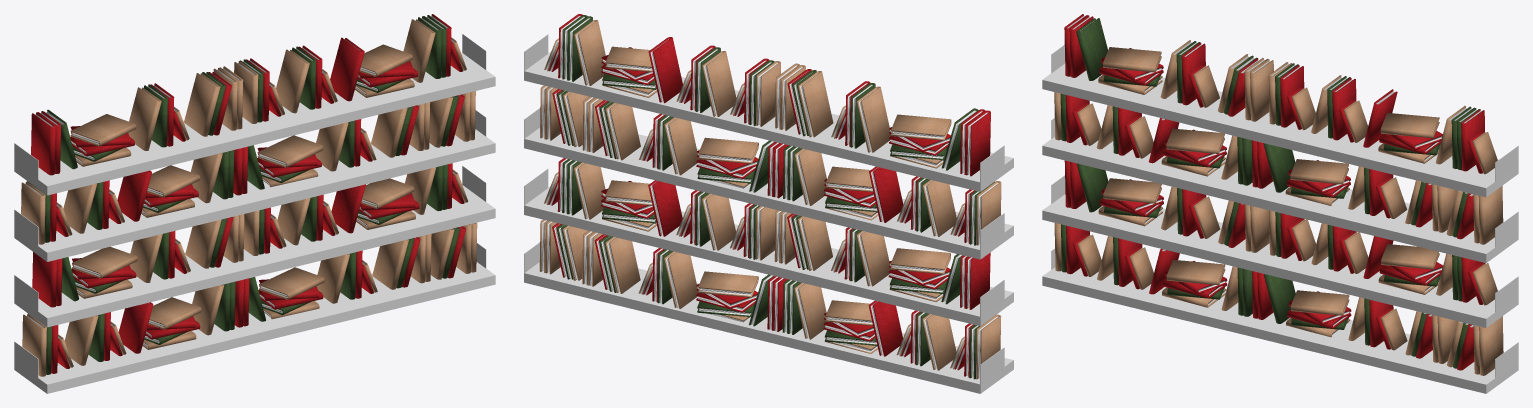
Rendered from estanteriaBajaFINAL (1).fbx.
3 renders of one model, left to right at view 1: azimuth 30°, elevation 25°; view 2: azimuth 150°, elevation 25°; view 3: azimuth 330°, elevation 25°, orthographic. The views are drawn at different scales.
Parts seen in each view (by area): view 1: estanteriaBAJA, libro.032, libro.011, libro.006, libro.023, libro.052, libro.066, libro.022, libro.148, libro.089, libro.012, libro.113 (+61 smaller); view 2: estanteriaBAJA, libro.032, libro.023, libro.011, libro.006, libro.012, libro.075, libro.067, libro.149, libro.157, libro.046, libro.125 (+68 smaller); view 3: estanteriaBAJA, libro.017, libro.148, libro.103, libro.033, libro.001, libro.066, libro.022, libro.089, libro.120, libro.053, libro.164 (+66 smaller).
Part boxes in pixels (bbox=[...]): estanteriaBAJA: bbox=[14, 34, 495, 393]; libro.032: bbox=[184, 73, 220, 136]; libro.011: bbox=[330, 37, 364, 101]; libro.006: bbox=[276, 49, 309, 113]; libro.023: bbox=[128, 87, 161, 150]; libro.052: bbox=[31, 112, 55, 175]; libro.066: bbox=[257, 135, 323, 167]; libro.022: bbox=[70, 114, 136, 146]; libro.148: bbox=[259, 267, 324, 299]; libro.089: bbox=[72, 246, 137, 278]; libro.012: bbox=[403, 19, 435, 82]; libro.113: bbox=[118, 302, 153, 353]; estanteriaBAJA: bbox=[524, 34, 1013, 393]; libro.032: bbox=[798, 71, 833, 137]; libro.023: bbox=[856, 86, 890, 152]; libro.011: bbox=[648, 37, 682, 103]; libro.006: bbox=[702, 51, 736, 116]; libro.012: bbox=[574, 20, 605, 85]; libro.075: bbox=[605, 102, 640, 160]; libro.067: bbox=[664, 117, 698, 175]; libro.149: bbox=[664, 251, 698, 308]; libro.157: bbox=[605, 236, 640, 293]; libro.046: bbox=[922, 179, 956, 236]; libro.125: bbox=[701, 193, 735, 250]; estanteriaBAJA: bbox=[1042, 45, 1518, 393]; libro.017: bbox=[1076, 18, 1107, 80]; libro.148: bbox=[1290, 290, 1349, 315]; libro.103: bbox=[1166, 260, 1225, 285]; libro.033: bbox=[1166, 128, 1224, 153]; libro.001: bbox=[1380, 113, 1439, 138]; libro.066: bbox=[1290, 159, 1348, 184]; libro.022: bbox=[1103, 47, 1161, 72]; libro.089: bbox=[1103, 178, 1161, 203]; libro.120: bbox=[1381, 244, 1439, 269]; libro.053: bbox=[1250, 59, 1273, 121]; libro.164: bbox=[1479, 316, 1503, 375].
Size of the model in its own units: 404 by 221 by 53.83.
